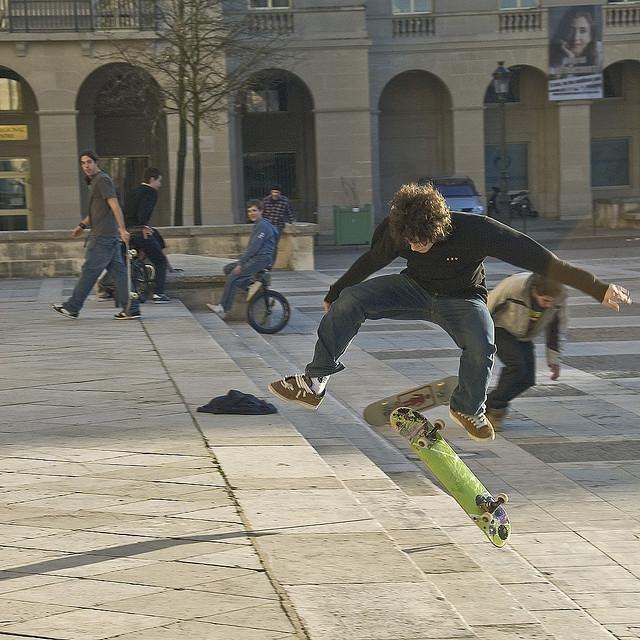bicycle: (248, 268, 291, 334), (130, 244, 149, 304)
car: (418, 174, 484, 214)
motorcycle: (94, 225, 160, 308)
